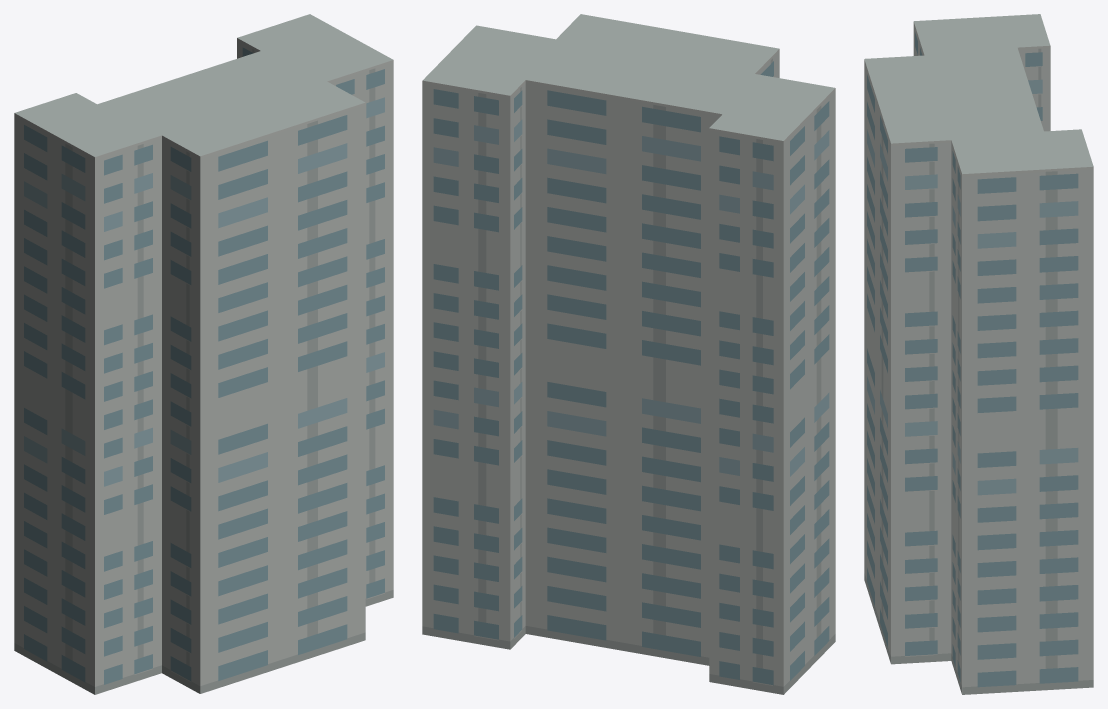
The model's file is residential-a0a0d22a-89f6-4d2f-822f-e89a0f7eb605.glb.
3 views of the same model, side by side, from view 1: azimuth 30°, elevation 25°; view 2: azimuth 150°, elevation 25°; view 3: azimuth 270°, elevation 25° (orthographic). The views are drawn at different scales.
Visible parts, largest first — view 1: residential-a0a0d22a-89f6-4d2f-822f-e89a0f7eb605.tmp; view 2: residential-a0a0d22a-89f6-4d2f-822f-e89a0f7eb605.tmp; view 3: residential-a0a0d22a-89f6-4d2f-822f-e89a0f7eb605.tmp.
Boxes of the visible parts, bbox=[...] form: residential-a0a0d22a-89f6-4d2f-822f-e89a0f7eb605.tmp: bbox=[14, 14, 393, 694]; residential-a0a0d22a-89f6-4d2f-822f-e89a0f7eb605.tmp: bbox=[422, 14, 835, 694]; residential-a0a0d22a-89f6-4d2f-822f-e89a0f7eb605.tmp: bbox=[864, 14, 1093, 694].
Bounding box in the file's own units: 34.97 × 53 × 21.17.
